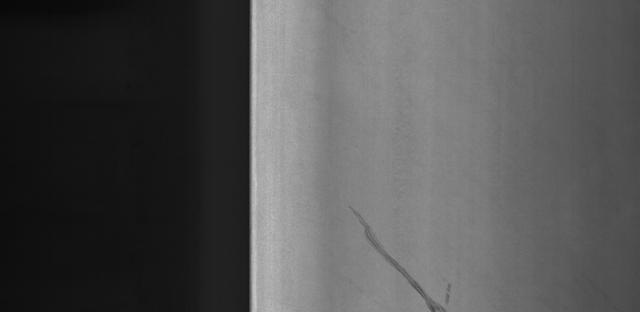water_spot: (340, 194, 476, 312)
